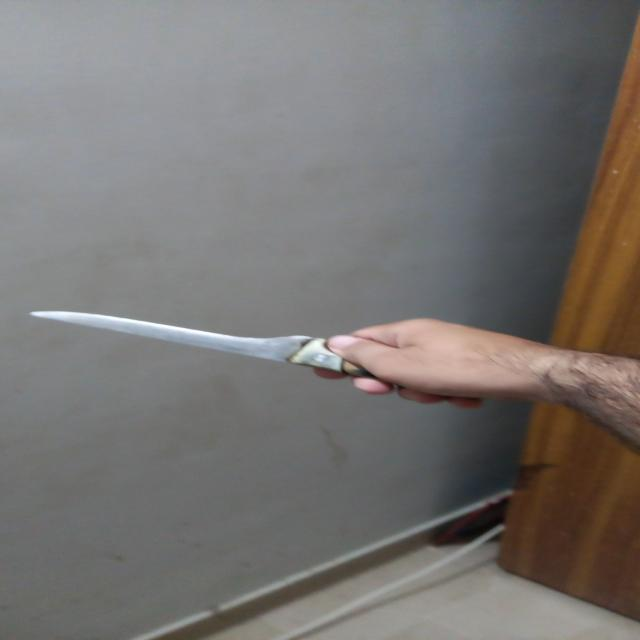knife: (28, 309, 491, 407)
